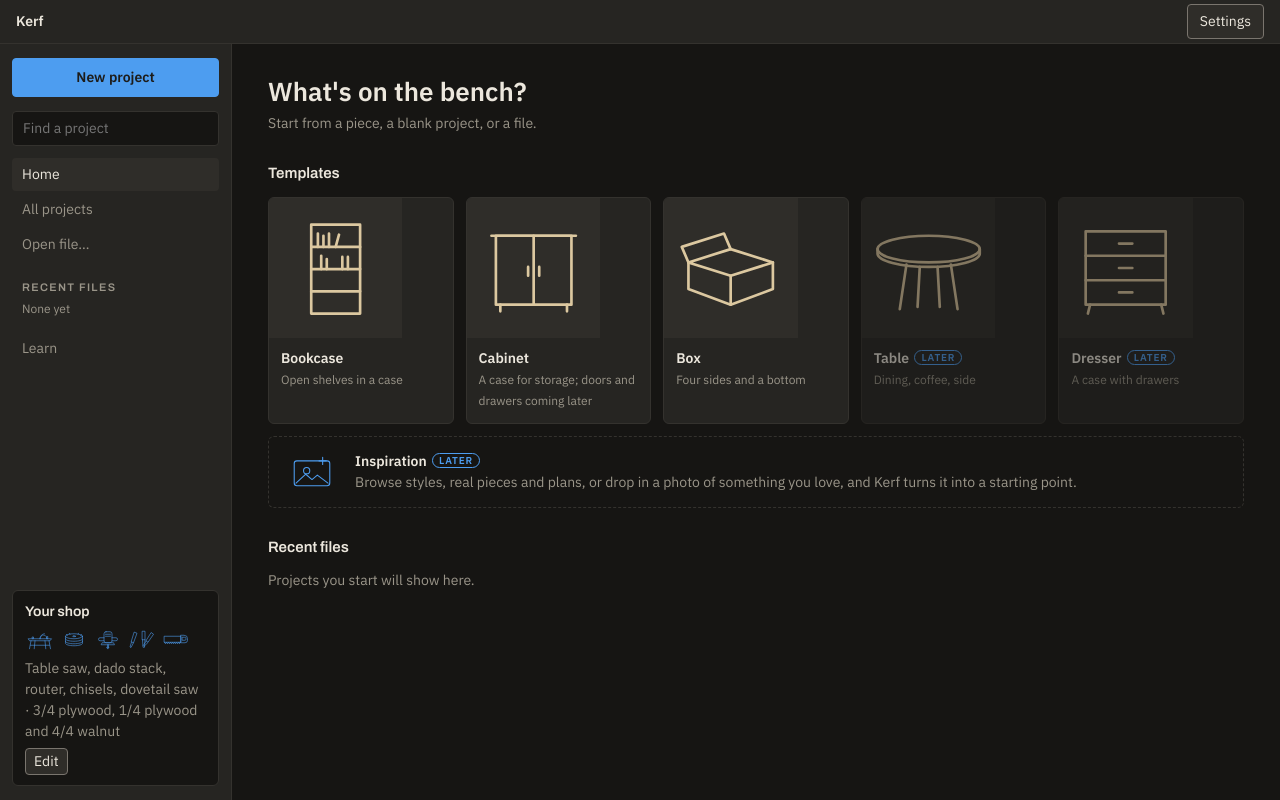
<Home> sidebar › gives Home and the keyboard back when New project is cancelled
Click the button "New project": {"x": 116, "y": 78} [12,58,219,97]
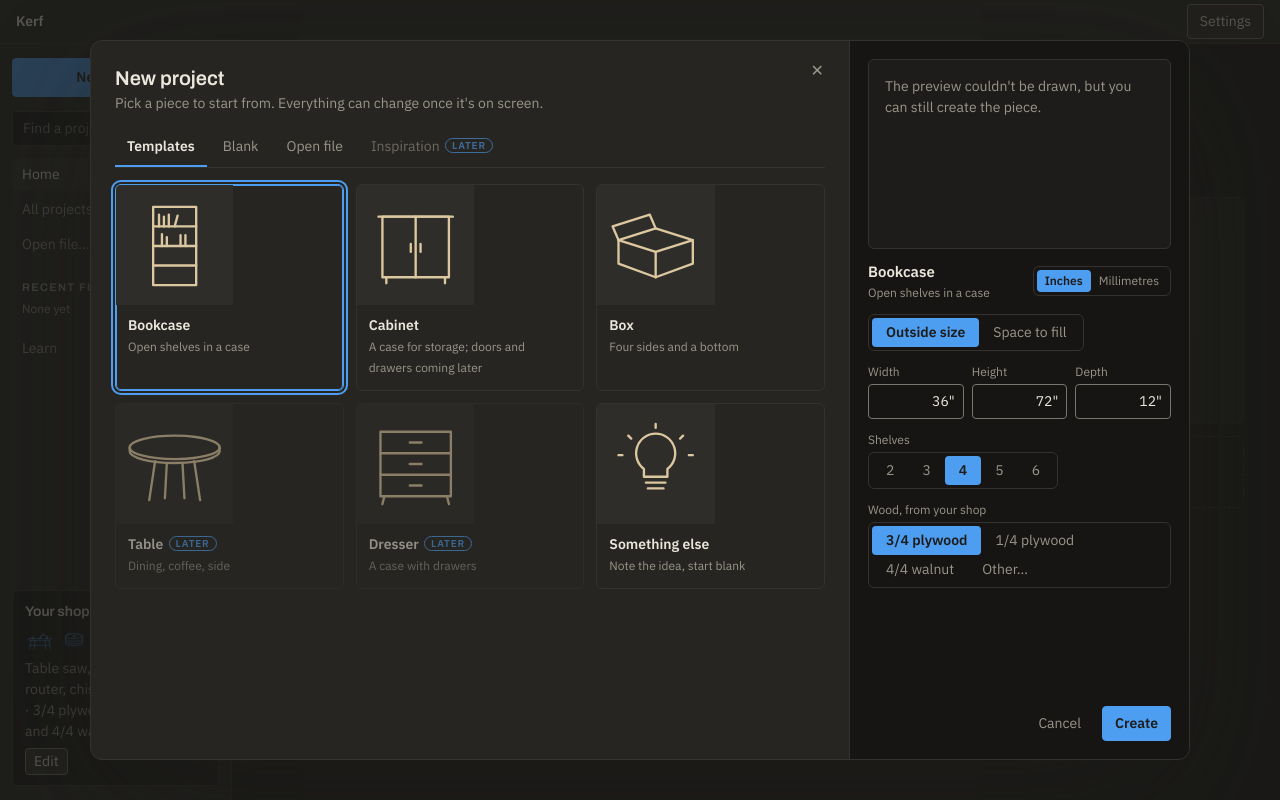
Click the button "Cancel": {"x": 1060, "y": 724} [1025,706,1094,741]
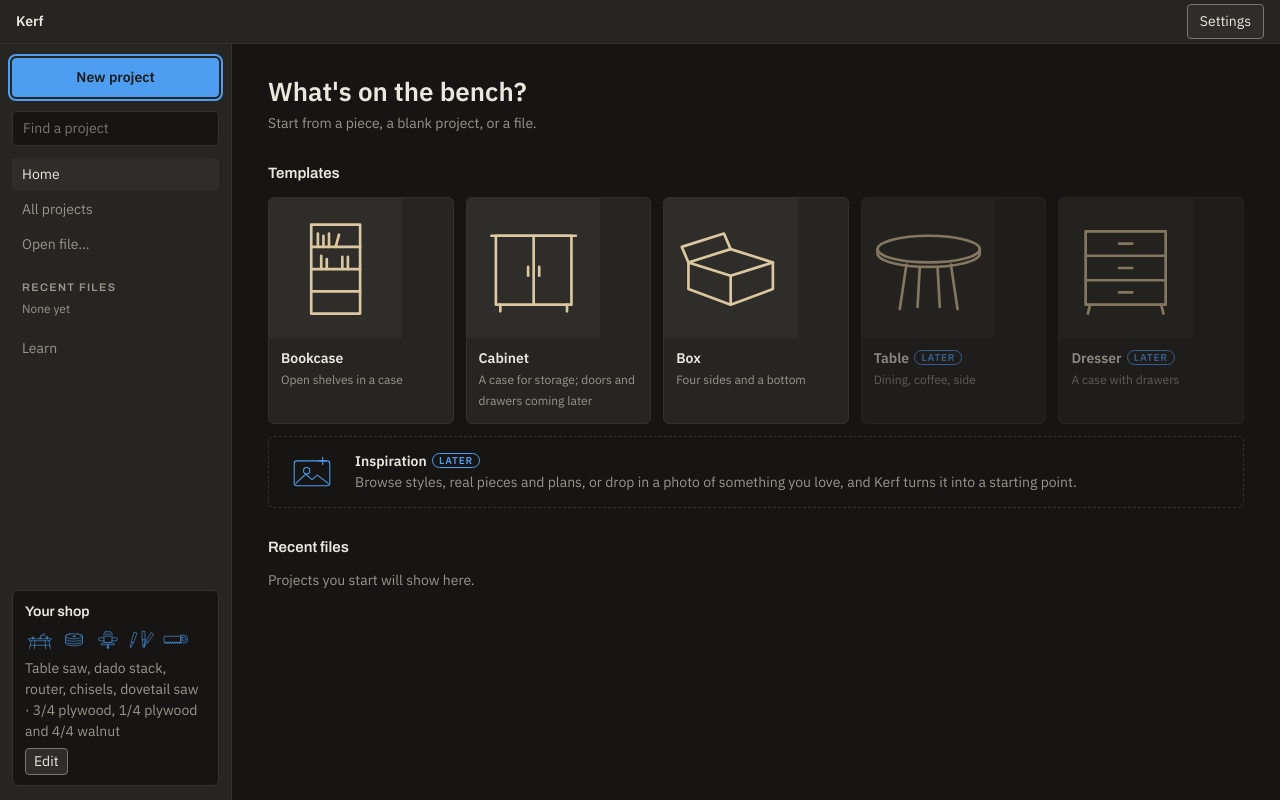
Check: the dialog is gone
